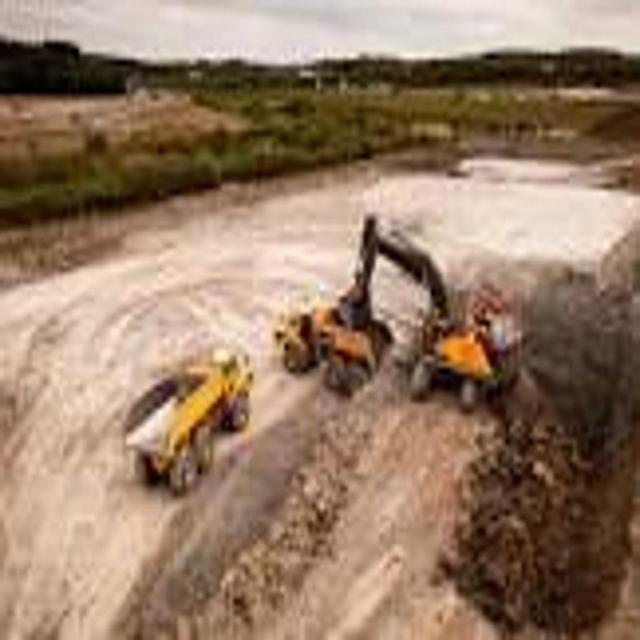dump_truck: (120, 332, 256, 482)
